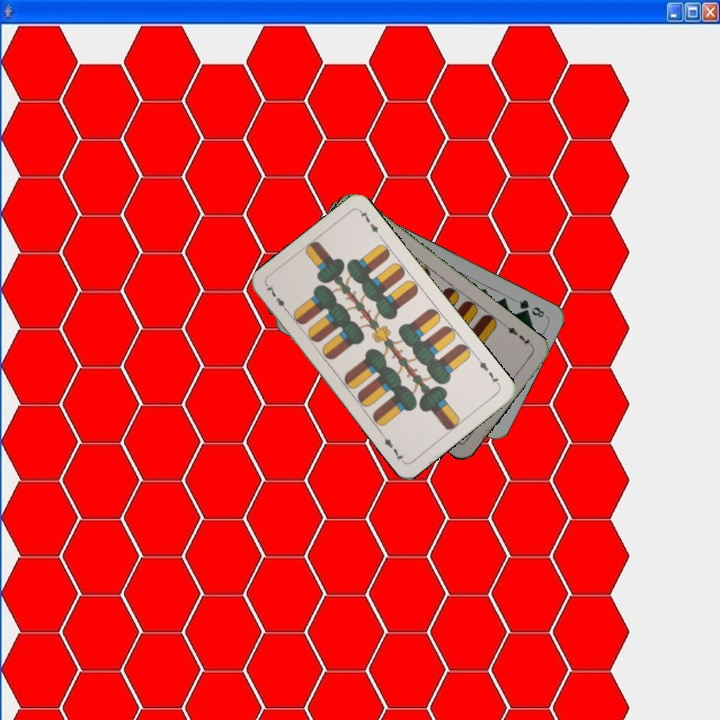E7: (473, 354, 503, 389), (262, 281, 292, 316), (500, 320, 535, 349)
G8: (514, 295, 547, 320)
